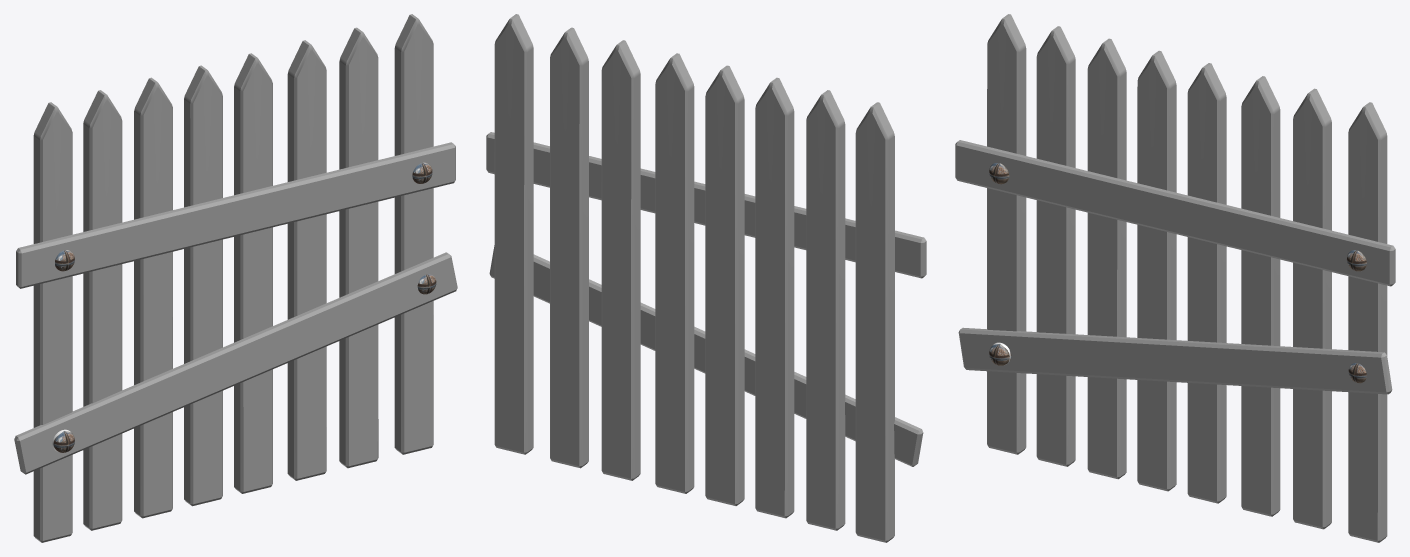
File: saku.fbx
3 renders of one model, left to right at view 1: azimuth 30°, elevation 25°; view 2: azimuth 150°, elevation 25°; view 3: azimuth 330°, elevation 25°, orthographic.
Visible parts, largest first — view 1: pCube10, pCube9, pCube1, pCube2, pCube7, pCube8, pCube6, pCube4, pCube5, pCube3; view 2: pCube4, pCube5, pCube3, pCube6, pCube8, pCube1, pCube2, pCube7, pCube9, pCube10; view 3: pCube9, pCube10, pCube1, pCube8, pCube2, pCube3, pCube4, pCube5, pCube6, pCube7.
Part boxes in pixels (x1=…): pCube10: x1=14, y1=252, x2=457, y2=474; pCube9: x1=16, y1=142, x2=455, y2=288; pCube1: x1=33, y1=102, x2=72, y2=542; pCube2: x1=83, y1=90, x2=122, y2=530; pCube7: x1=339, y1=27, x2=378, y2=468; pCube8: x1=394, y1=14, x2=433, y2=454; pCube6: x1=287, y1=40, x2=326, y2=480; pCube4: x1=184, y1=65, x2=222, y2=506; pCube5: x1=234, y1=53, x2=272, y2=493; pCube3: x1=134, y1=77, x2=172, y2=518; pCube4: x1=705, y1=65, x2=744, y2=505; pCube5: x1=655, y1=53, x2=694, y2=493; pCube3: x1=755, y1=77, x2=794, y2=518; pCube6: x1=601, y1=40, x2=640, y2=480; pCube8: x1=494, y1=14, x2=533, y2=454; pCube1: x1=855, y1=102, x2=894, y2=542; pCube2: x1=806, y1=90, x2=845, y2=530; pCube7: x1=550, y1=27, x2=588, y2=468; pCube9: x1=486, y1=132, x2=926, y2=278; pCube10: x1=489, y1=245, x2=923, y2=466; pCube9: x1=955, y1=140, x2=1395, y2=286; pCube10: x1=958, y1=327, x2=1392, y2=394; pCube1: x1=987, y1=14, x2=1026, y2=454; pCube8: x1=1348, y1=102, x2=1387, y2=542; pCube2: x1=1036, y1=26, x2=1075, y2=466; pCube3: x1=1087, y1=38, x2=1126, y2=479; pCube4: x1=1137, y1=50, x2=1176, y2=491; pCube5: x1=1187, y1=63, x2=1226, y2=503; pCube6: x1=1241, y1=76, x2=1280, y2=516; pCube7: x1=1293, y1=88, x2=1331, y2=529.
Bounding box in the file's own units: 5.34 × 5.04 × 0.4055.
